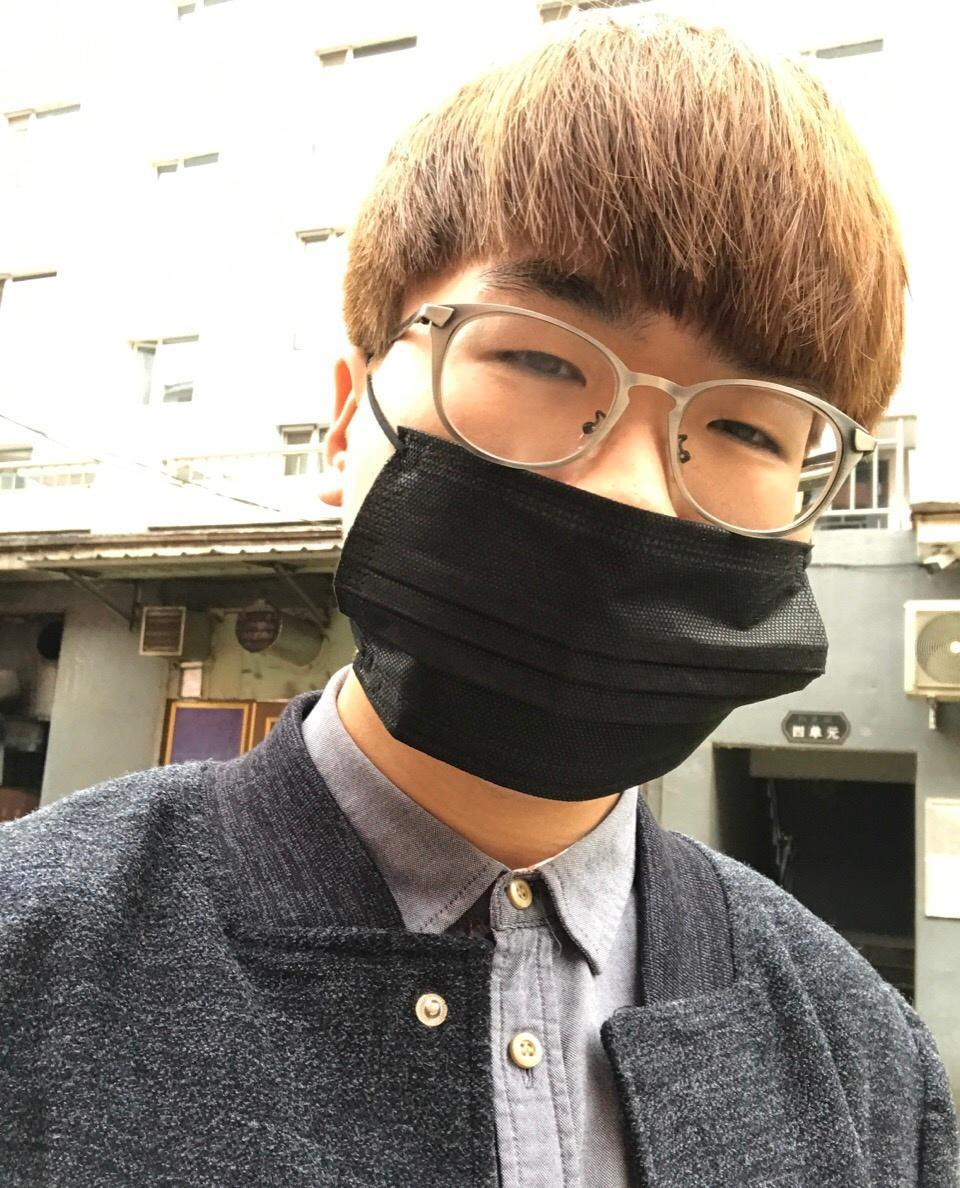WRONG: (332, 249, 878, 795)
